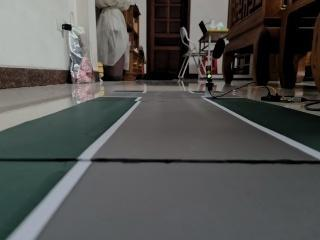green: (204, 62, 215, 88)
